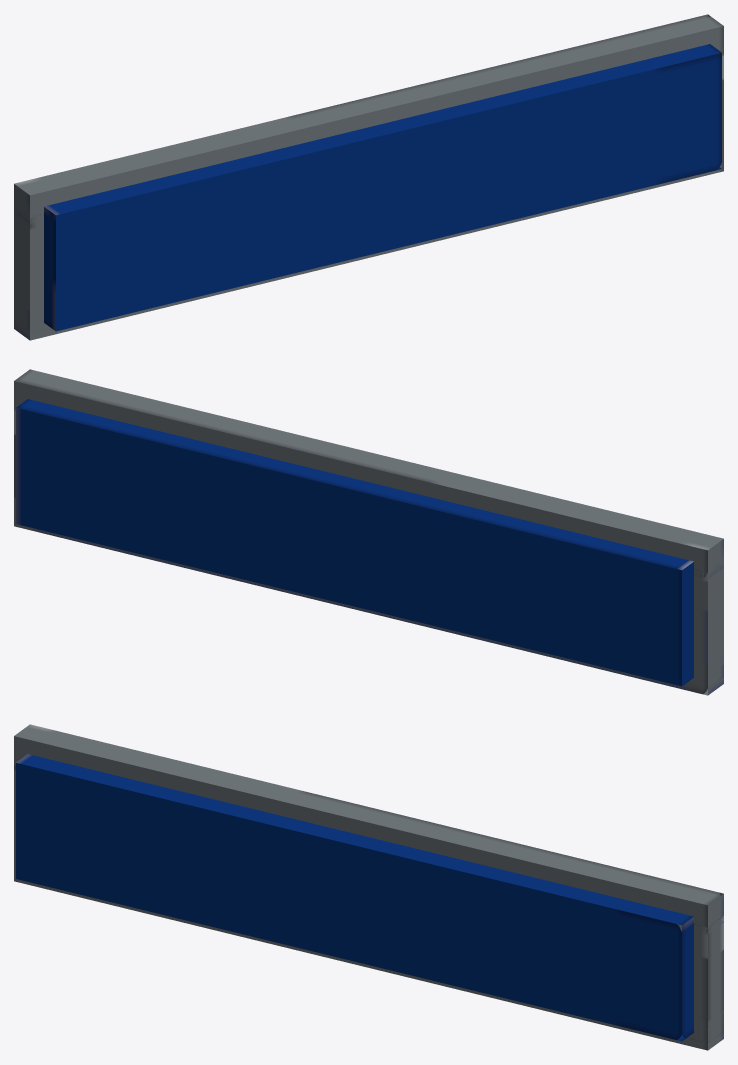
The model's file is nl_station_sign_wall.obj.
The picture shows the model from 3 angles, top to bottom: view 1: azimuth 30°, elevation 25°; view 2: azimuth 150°, elevation 25°; view 3: azimuth 330°, elevation 25°; orthographic projection.
Visible parts, largest first — view 1: sign_back, pole_top, pole_right; view 2: sign_front, pole_top, pole_right; view 3: sign_back, pole_top, pole_left.
Part boxes in pixels (x1,y1,x2,y2): sign_back: (44, 44, 721, 331); pole_top: (14, 14, 723, 340); pole_right: (14, 205, 47, 332); sign_front: (16, 399, 693, 686); pole_top: (14, 369, 723, 695); pole_right: (687, 560, 723, 687); sign_back: (16, 754, 693, 1041); pole_top: (14, 724, 723, 1050); pole_left: (680, 915, 723, 1042).
Bounding box in the file's own units: 3.12 × 0.625 × 0.3125.
Materials: 1 (1 with a texture image).
